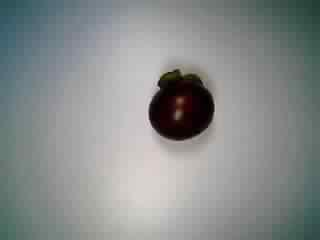mangosteen: (140, 67, 219, 142)
